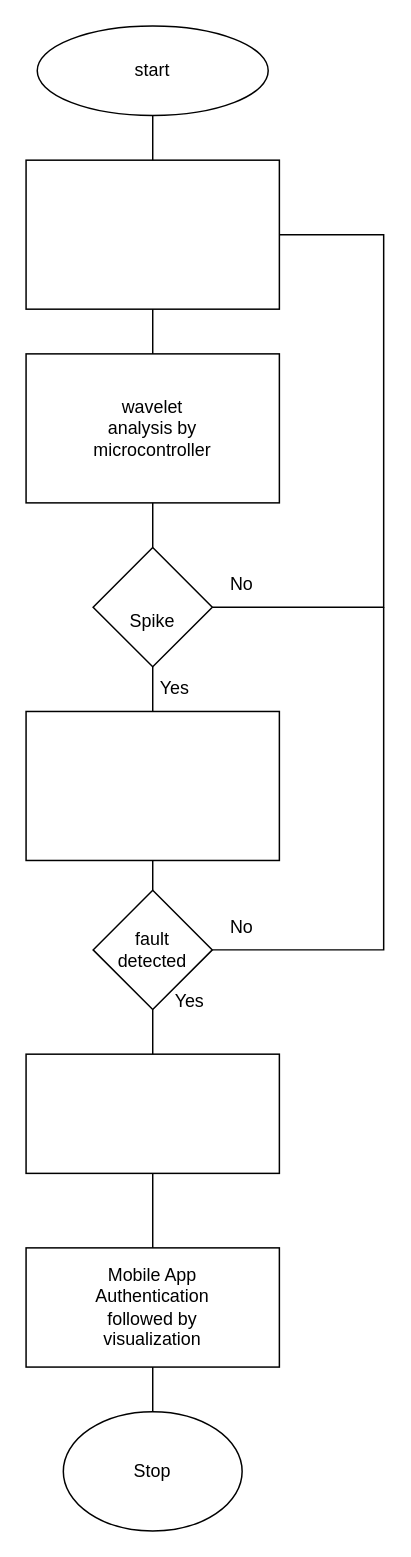
Some shapes in this 411 by 1557 pixel diagram are drawn without their labels. The shapes that lost their labels are listed below. From the top down, each one's box as (x1, y1, x2, y2) in pixels, then its label:
(25, 159, 279, 309): ina219 current sensor sampling
(25, 710, 279, 860): CNN analysis by dragonwing chip
(25, 1053, 279, 1173): Snapdragon AI PC NPU deep analysis
